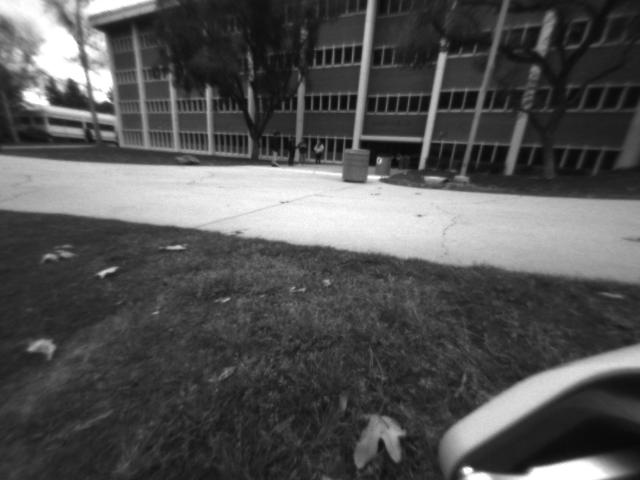trashcan: (343, 148, 369, 183), (375, 153, 392, 174)
